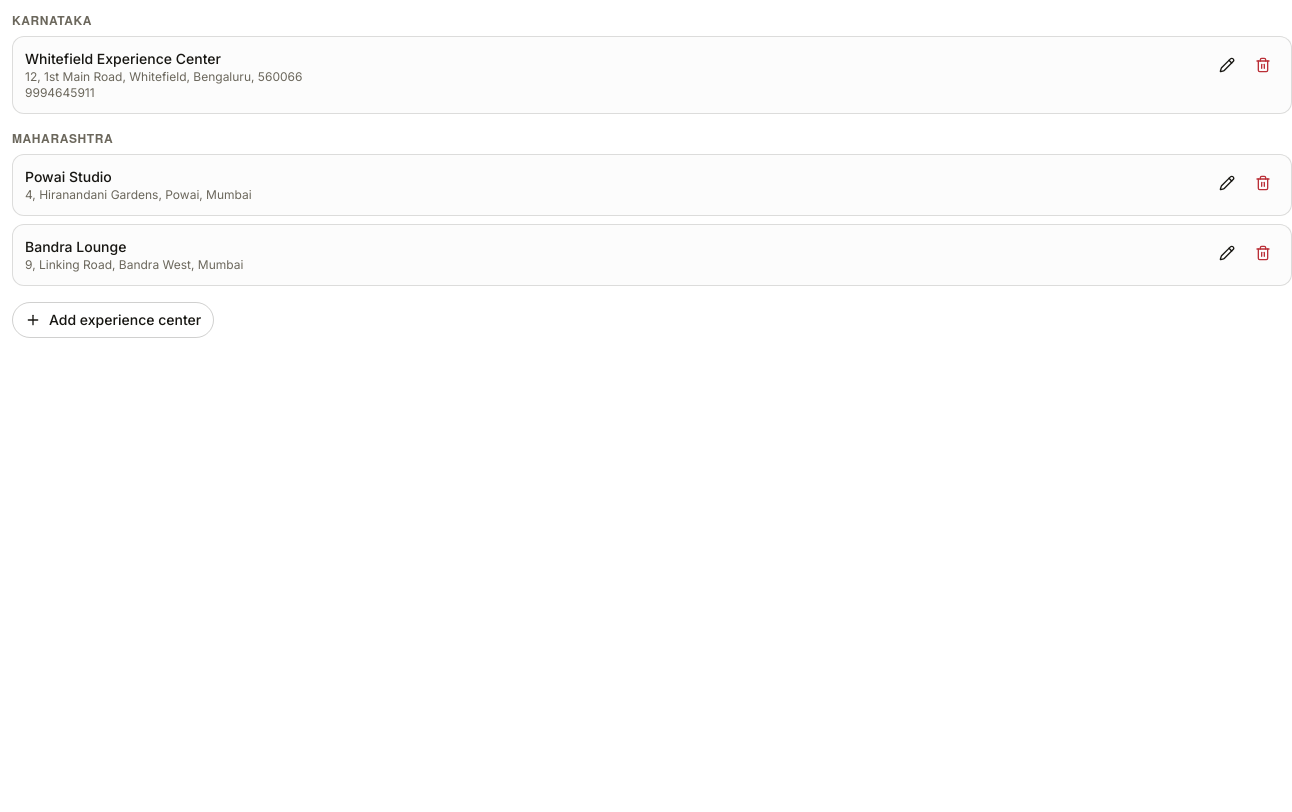
Test: ExperienceCentersEditor › replaces the edited center card with the edit form in the same state group
What coordinates should you click on to do the following:
click the button named "Edit Powai Studio"
I would click on:
 (1227, 183)
Its box is [1211,167,1243,199].
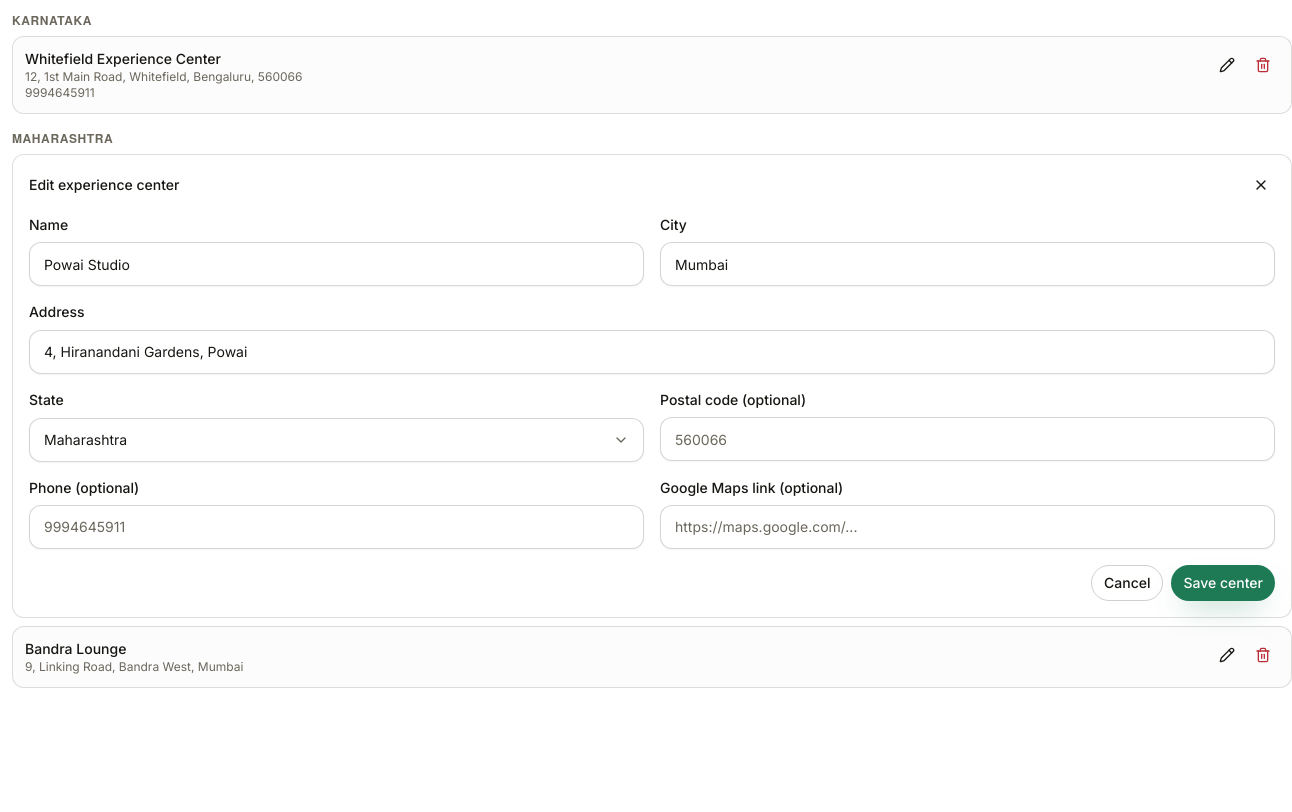
Check: the text "Bandra Lounge" is shown, box [25,640,126,657]
Check: the text "Edit experience center" is shown, box [29,176,180,193]
Check: the button "Add experience center" is gone
